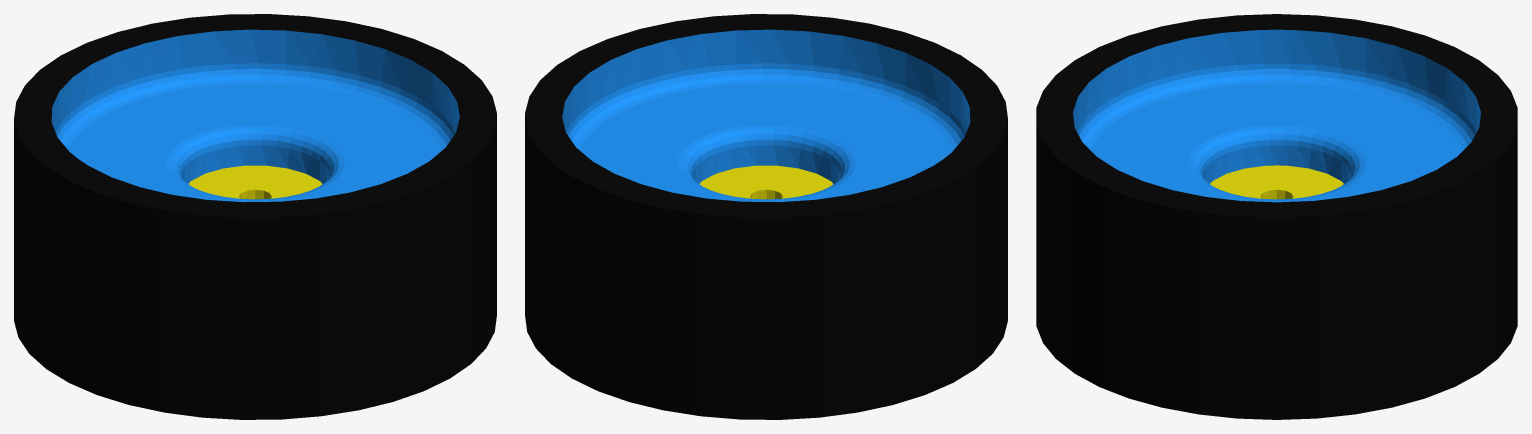
Rendered from betabot_wheel.dae.
The picture shows the model from 3 angles, left to right: view 1: azimuth 30°, elevation 25°; view 2: azimuth 150°, elevation 25°; view 3: azimuth 270°, elevation 25°; orthographic projection.
Visible parts, largest first — view 1: Left Wheel Link; view 2: Left Wheel Link; view 3: Left Wheel Link.
Part boxes in pixels (x1=…): Left Wheel Link: x1=14, y1=14, x2=496, y2=419; Left Wheel Link: x1=525, y1=14, x2=1007, y2=419; Left Wheel Link: x1=1036, y1=14, x2=1517, y2=419.
Bounding box in the file's own units: 0.065 × 0.0648 × 0.03.
